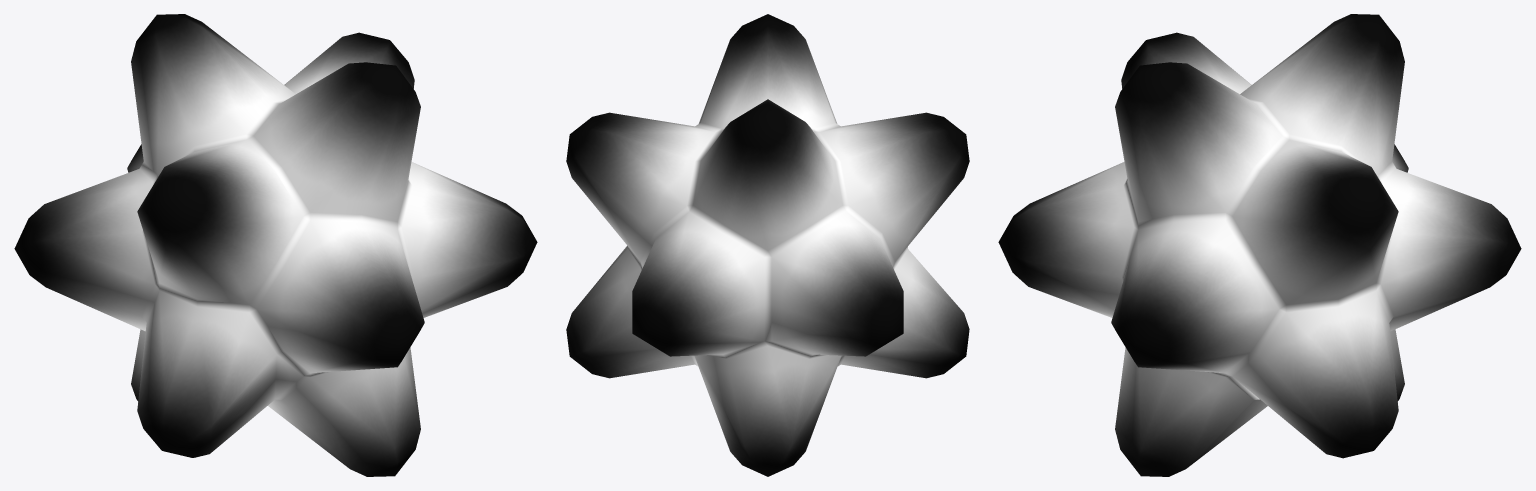
Rendered from star2.glb.
3 renders of one model, left to right at view 1: azimuth 30°, elevation 25°; view 2: azimuth 150°, elevation 25°; view 3: azimuth 270°, elevation 25°, orthographic. The views are drawn at different scales.
Parts seen in each view (by area): view 1: Body1__mBody; view 2: Body1__mBody; view 3: Body1__mBody.
Boxes of the visible parts, x1,y1,x2,y2 form: Body1__mBody: (14, 14, 537, 476); Body1__mBody: (566, 14, 969, 476); Body1__mBody: (998, 14, 1521, 476).
Size of the model in its own units: 3.1 by 3.05 by 3.52.
1 material, 1 textured.
